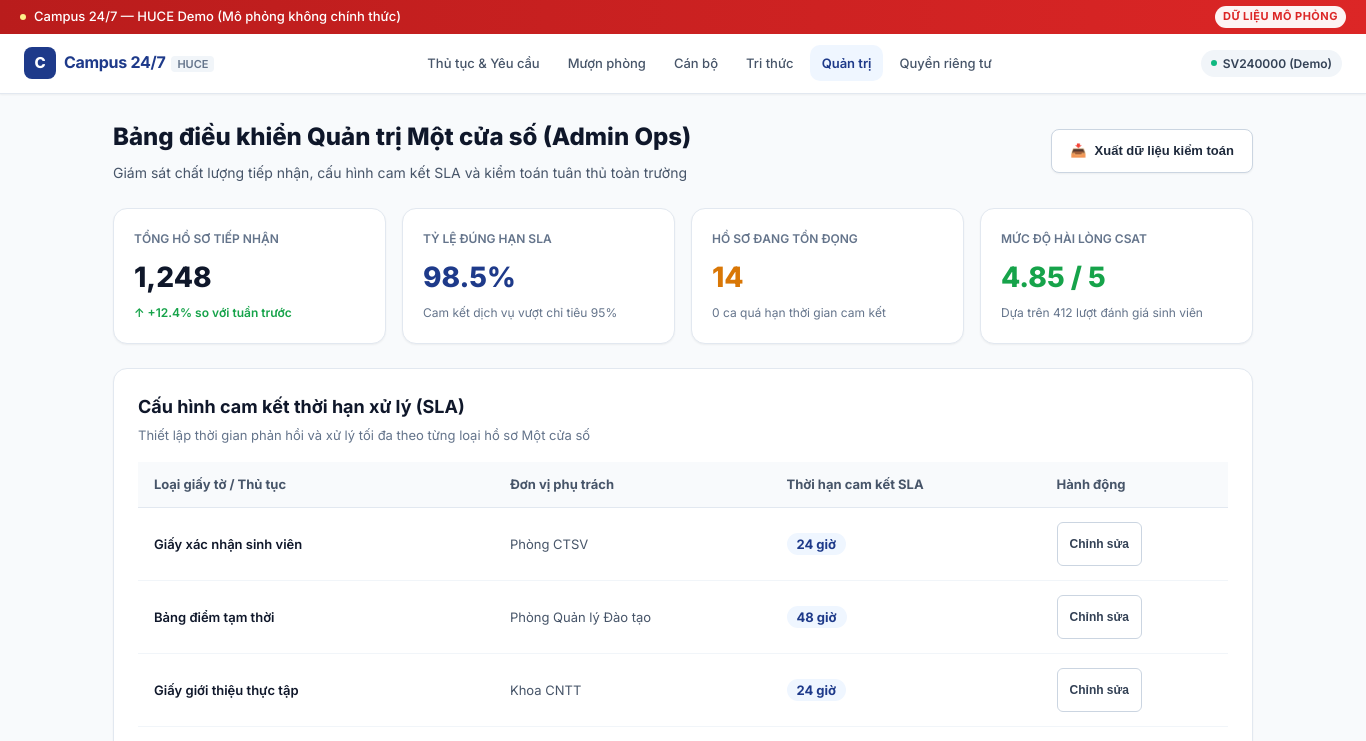
Test: AdminDashboardPage Component › supports configuring SLA turnaround times per document category
Expected: the heading "Cấu hình cam kết thời hạn xử lý (SLA)" is shown, [138,396,465,416]
Expected: the text "Bảng điểm tạm thời" is shown, [138,580,494,653]
# SLA adjustment
Click the button with aria-label "Chỉnh sửa SLA Bảng điểm tạm thời" at (1099, 617), box [1056,595,1142,639]
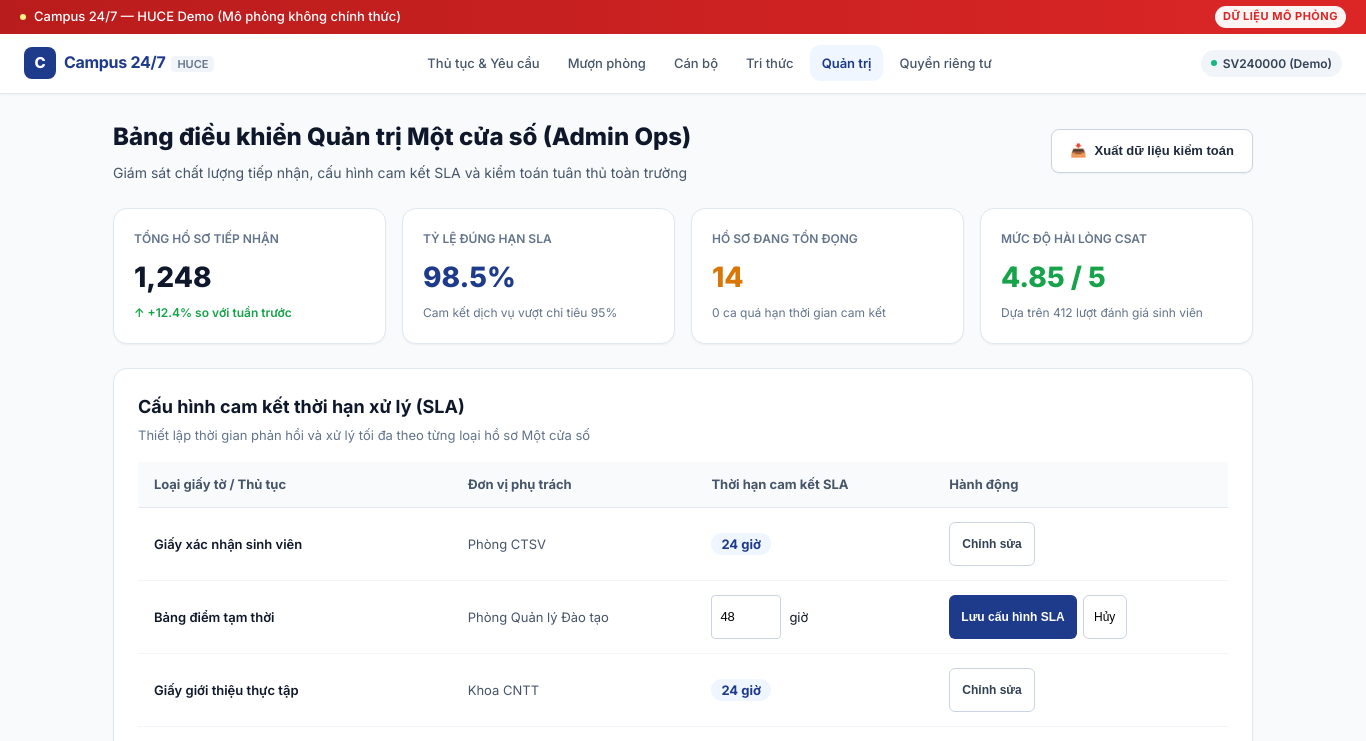
Replace the text in the number field named "Thời hạn SLA mới (giờ)" with "36" at (746, 617), box [711,595,781,639]
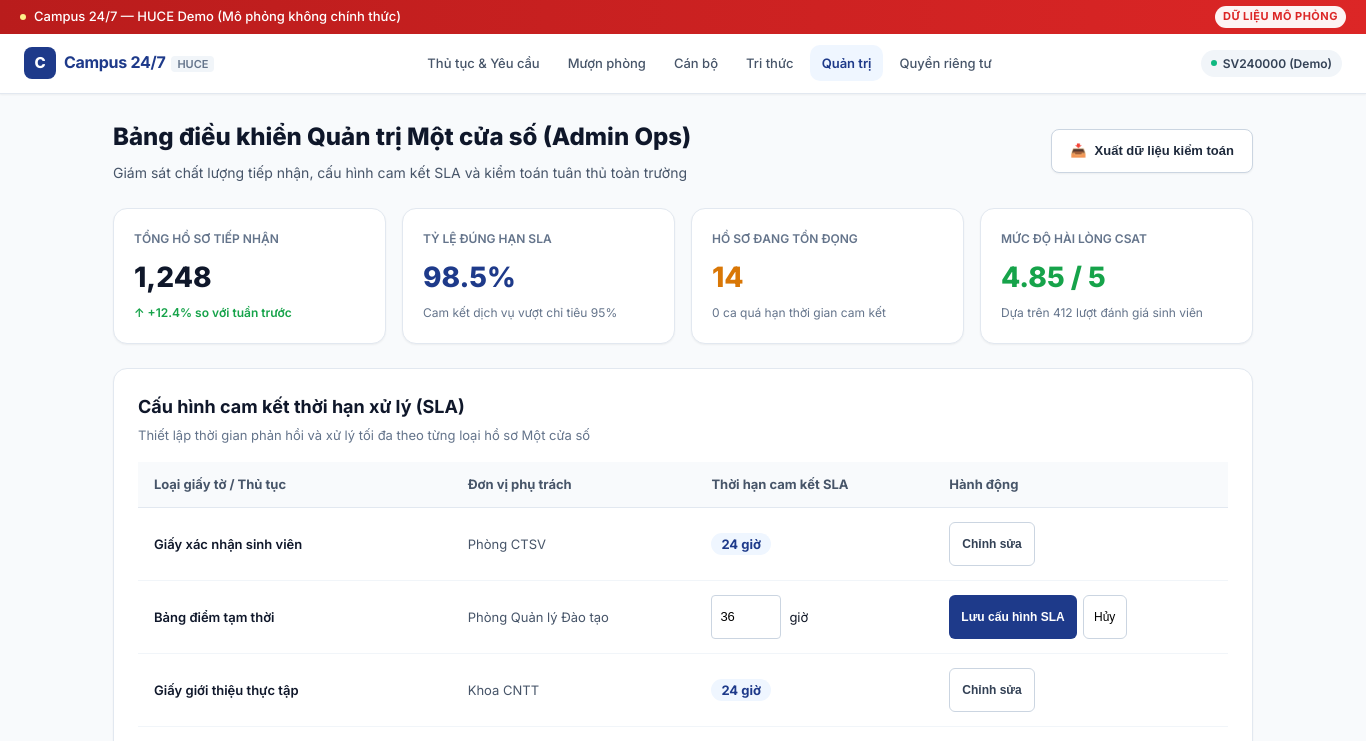
Click the button "Lưu cấu hình SLA" at (1013, 617), box [949,595,1077,639]
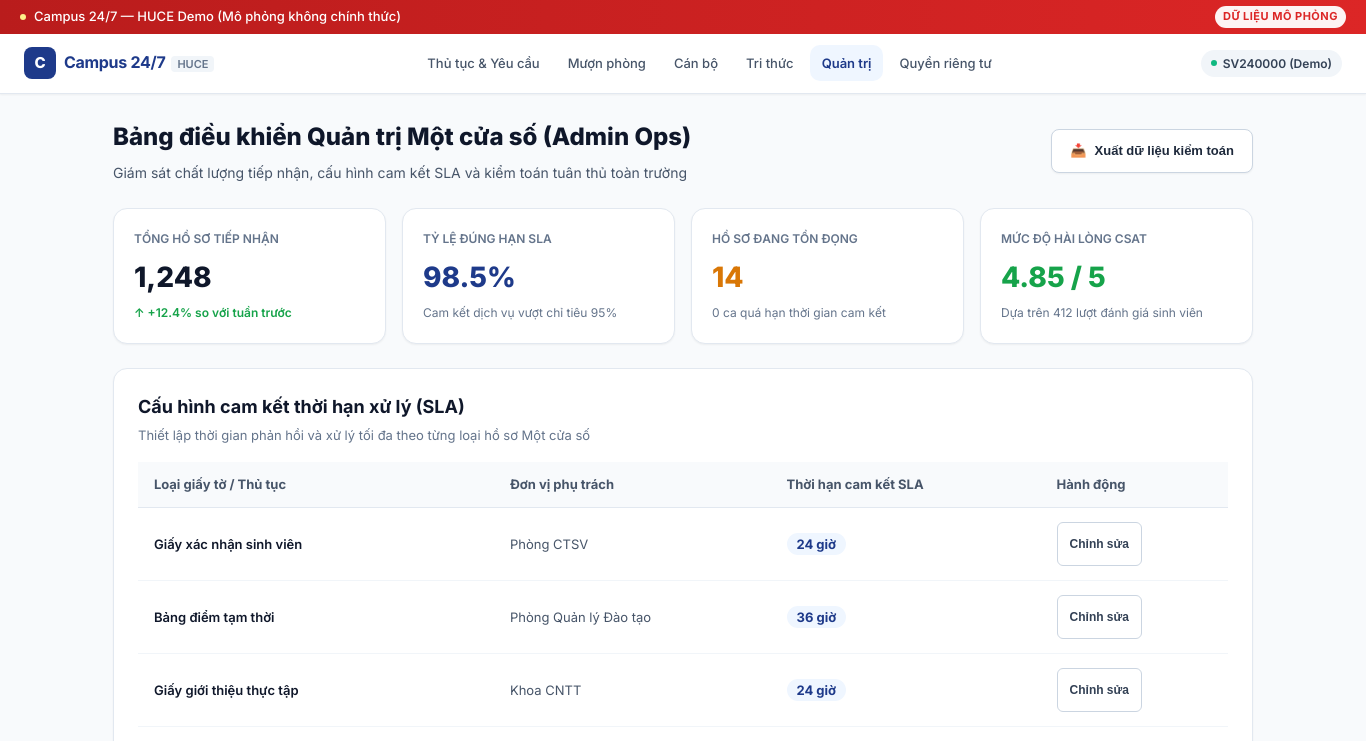
Expected: the text "36 giờ" is shown, [786,606,846,628]
